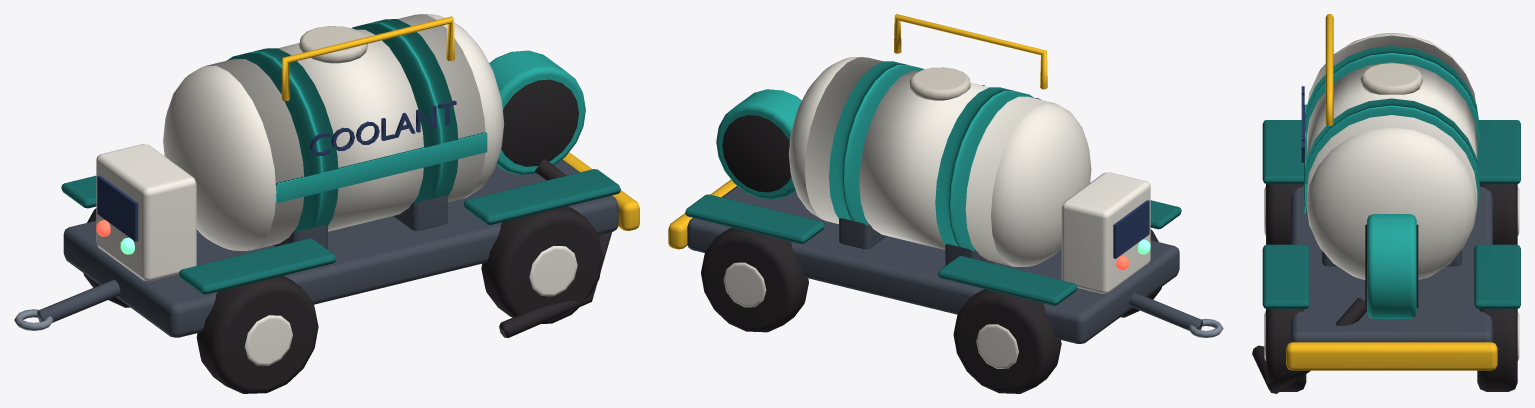
File: dune_gse_cart.glb
3 views of the same model, side by side, from view 1: azimuth 30°, elevation 25°; view 2: azimuth 150°, elevation 25°; view 3: azimuth 270°, elevation 25° (orthographic). The views are drawn at different scales.
Visible parts, largest first — view 1: GseCart; view 2: GseCart; view 3: GseCart.
Part boxes in pixels (x1=…): GseCart: x1=14, y1=14, x2=639, y2=393; GseCart: x1=668, y1=14, x2=1223, y2=393; GseCart: x1=1252, y1=14, x2=1520, y2=393.
Size of the model in its own units: 3.78 by 1.92 by 1.73.
